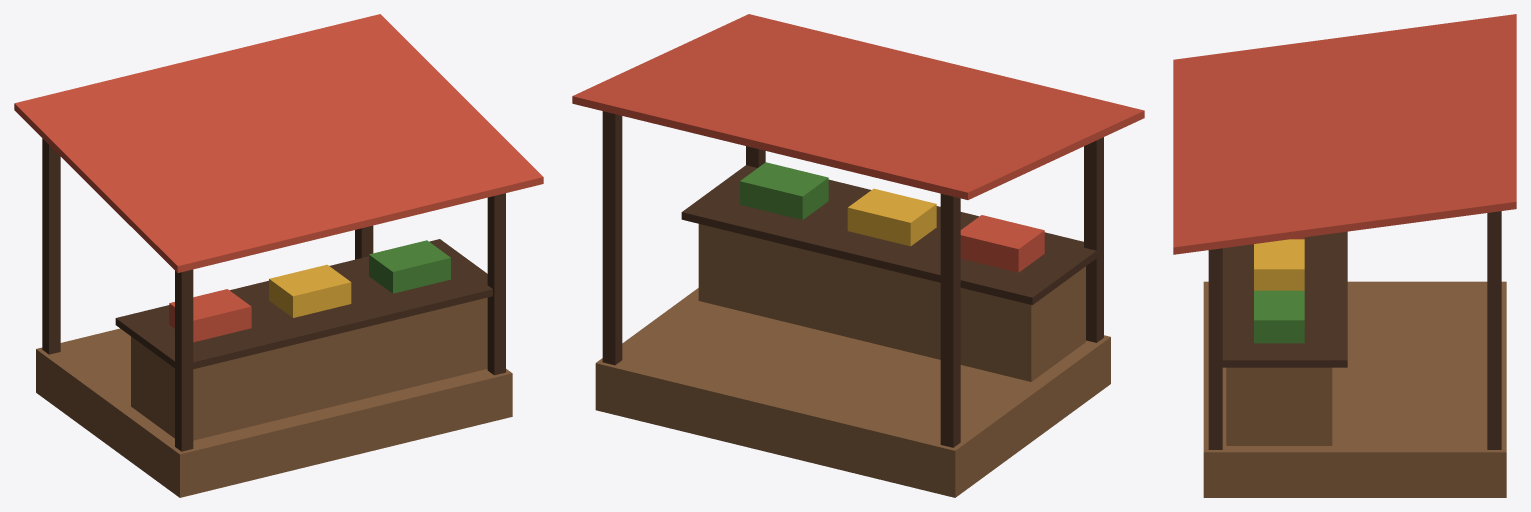
File: stall_a.glb
3 views of the same model, side by side, from view 1: azimuth 30°, elevation 25°; view 2: azimuth 150°, elevation 25°; view 3: azimuth 270°, elevation 25° (orthographic). The views are drawn at different scales.
Visible parts, largest first — view 1: stall_a-col; view 2: stall_a-col; view 3: stall_a-col.
Boxes of the visible parts, x1,y1,x2,y2 form: stall_a-col: (14, 14, 543, 497); stall_a-col: (572, 14, 1144, 497); stall_a-col: (1173, 14, 1516, 497).
Bounding box in the file's own units: 4.4 × 3.33 × 3.4.
